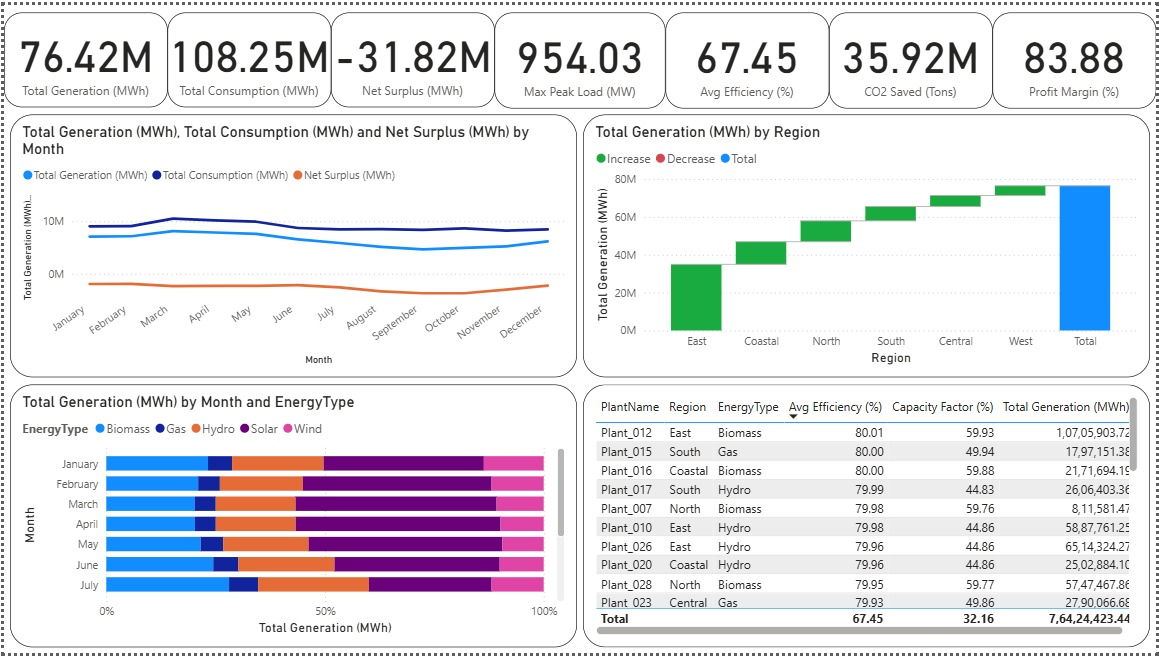

What the dashboard file says about the page in this screenshot:
{"tool":"powerbi","page":{"name":"Executive Overview","canvas":[1280,720],"ordinal":0},"visuals":[{"type":"card","fields":{"Values":["Consumption.Total Generation (MWh)"]},"box":[0,8.3,182,105],"z":0},{"type":"card","fields":{"Values":["Consumption.Total Consumption (MWh)"]},"box":[181.7,8.3,181.7,105],"z":1},{"type":"card","fields":{"Values":["Consumption.Net Surplus (MWh)"]},"box":[363.3,8.3,181.7,105],"z":2},{"type":"card","fields":{"Values":["Consumption.Max Peak Load (MW)"]},"box":[545,8.3,190,106.7],"z":3},{"type":"card","fields":{"Values":["Consumption.Avg Efficiency (%)"]},"box":[735,8.3,181.7,106.7],"z":4},{"type":"card","fields":{"Values":["Consumption.CO2 Saved (Tons)"]},"box":[916.7,8.3,181.7,106.7],"z":5},{"type":"card","fields":{"Values":["Consumption.Profit Margin (%)"]},"box":[1099,8.3,181.7,106.7],"z":6},{"type":"lineChart","fields":{"Category":["Date.Date.Variation.Date Hierarchy.Month"],"Y":["Consumption.Total Generation (MWh)","Consumption.Total Consumption (MWh)","Consumption.Net Surplus (MWh)"]},"box":[6,122,630,292],"z":7},{"type":"hundredPercentStackedBarChart","fields":{"Category":["Date.Date.Variation.Date Hierarchy.Month"],"Series":["Plants.EnergyType"],"Y":["Consumption.Total Generation (MWh)"]},"box":[6,421,630,292],"z":8},{"type":"waterfallChart","fields":{"Category":["Region.Region"],"Y":["Consumption.Total Generation (MWh)"]},"box":[644,122,630,292],"z":9},{"type":"tableEx","fields":{"Values":["Plants.PlantName","Plants.Region","Plants.EnergyType","Consumption.Avg Efficiency (%)","Consumption.Capacity Factor (%)","Consumption.Total Generation (MWh)"]},"box":[644,421,630,292],"z":10}]}

Visuals, with their boxes in screenshot pixels (x1, y1, x2, y2), scaled from the page's 1280x720 canvas onto the 1159x656 screenshot:
card - Consumption.Total Generation (MWh): box=[0, 8, 165, 103]
card - Consumption.Total Consumption (MWh): box=[165, 8, 329, 103]
card - Consumption.Net Surplus (MWh): box=[329, 8, 493, 103]
card - Consumption.Max Peak Load (MW): box=[493, 8, 666, 105]
card - Consumption.Avg Efficiency (%): box=[666, 8, 830, 105]
card - Consumption.CO2 Saved (Tons): box=[830, 8, 995, 105]
card - Consumption.Profit Margin (%): box=[995, 8, 1158, 105]
lineChart - Date.Date.Variation.Date Hierarchy.Month x Consumption.Total Generation (MWh): box=[5, 111, 576, 377]
hundredPercentStackedBarChart - Date.Date.Variation.Date Hierarchy.Month x Plants.EnergyType: box=[5, 384, 576, 650]
waterfallChart - Region.Region x Consumption.Total Generation (MWh): box=[583, 111, 1154, 377]
tableEx - Plants.PlantName x Plants.Region: box=[583, 384, 1154, 650]
